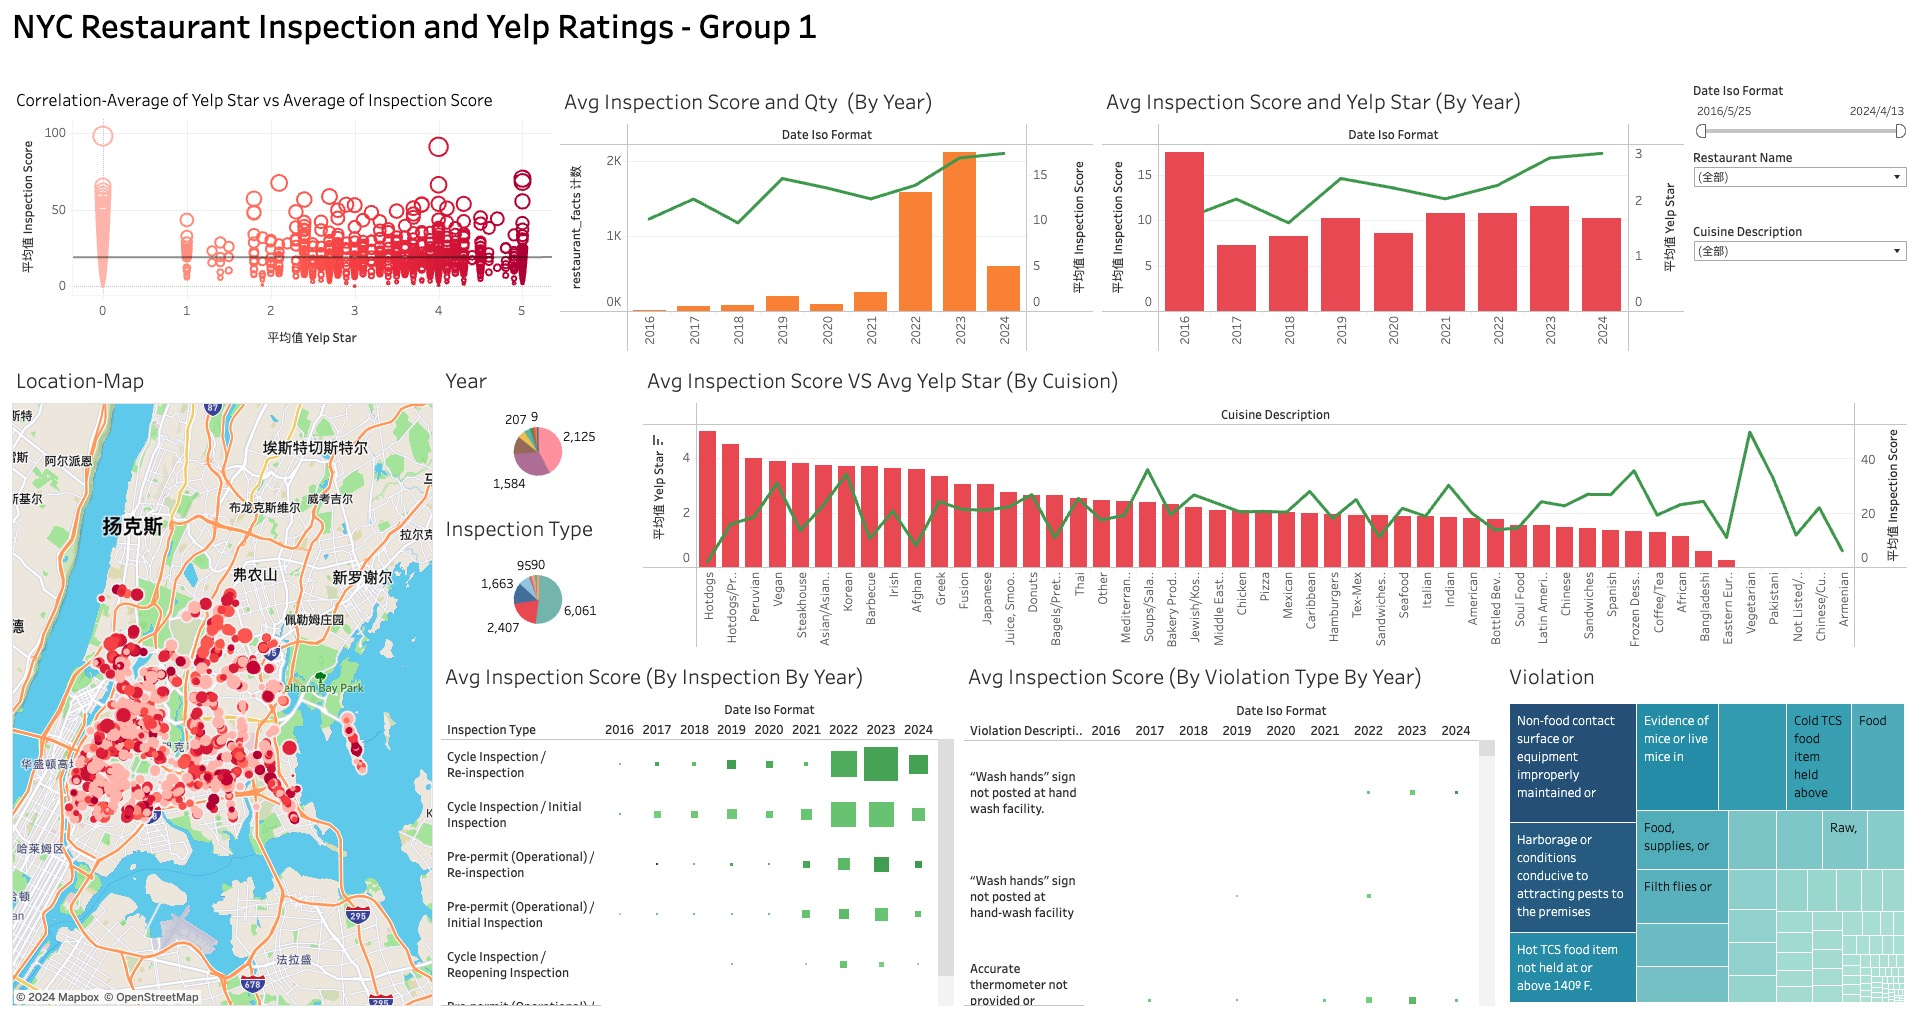

This screenshot's page, from the dashboard's own definition file:
{"tool":"tableau","page":{"name":"Dashboard","canvas":[1000,1000],"units":"permille","ordinal":0},"visuals":[{"type":"text","box":[4.7,8.6,990.6,98.6]},{"type":"worksheet","title":"Correlation","mark":"Automatic","rows":["inspection_score"],"cols":["yelp_star"],"box":[4.7,107.2,285,264.4]},{"type":"worksheet","title":"Sheet 11","mark":"Bar","rows":["inspection_score"],"cols":["date_iso_format"],"box":[289.6,107.2,282,264.4]},{"type":"worksheet","title":"Date-Line","mark":"Line","rows":["inspection_score","yelp_star"],"cols":["date_iso_format"],"box":[571.6,107.2,293.2,264.4]},{"type":"filter","title":"Cuisine-Combo","param":"[federated.1ykq8mh17dakyf1g6glmt19fv5py].[none:date_iso_format:qk]","box":[864.8,107.2,130.5,71.7]},{"type":"filter","title":"Cuisine-Combo","param":"[federated.1ykq8mh17dakyf1g6glmt19fv5py].[none:restaurant_name:nk]","box":[864.8,178.8,130.5,79.2]},{"type":"filter","title":"Correlation","param":"[federated.1ykq8mh17dakyf1g6glmt19fv5py].[none:cuisine_description:nk]","box":[864.8,258,130.5,55.6]},{"type":"worksheet","title":"Location-Map","mark":"Automatic","rows":["latitude"],"cols":["longitude"],"box":[4.7,371.6,223.3,619.9]},{"type":"worksheet","title":"Year","mark":"Pie","box":[228,371.6,105,140.4]},{"type":"worksheet","title":"Cuisine-Combo","mark":"Line","rows":["yelp_star","inspection_score"],"cols":["cuisine_description"],"box":[332.9,371.6,662.4,280.8]},{"type":"worksheet","title":"InspectionType-Pie","mark":"Pie","box":[228,512,105,140.4]},{"type":"worksheet","title":"HeatMap","mark":"Automatic","rows":["inspection_type"],"cols":["date_iso_format"],"box":[228,652.4,272,339.1]},{"type":"worksheet","title":"HeatMap (3)","mark":"Automatic","rows":["violation_description"],"cols":["date_iso_format"],"box":[500,652.4,281.5,339.1]},{"type":"worksheet","title":"Violation-Column","mark":"Automatic","box":[781.5,652.4,213.8,339.1]}]}

Visuals, with their boxes on the dashboard's canvas, which has no fixed pixel size, in thousandths of its width and height (x1, y1, x2, y2). These are canvas units, not pixel positions in the 1919x1016 screenshot, which may show the page scaled, cropped or inside an application window:
text: BBox(5, 9, 995, 107)
"Correlation" worksheet: BBox(5, 107, 290, 372)
"Sheet 11" worksheet (Bar marks): BBox(290, 107, 572, 372)
"Date-Line" worksheet (Line marks): BBox(572, 107, 865, 372)
"Cuisine-Combo" filter: BBox(865, 107, 995, 179)
"Cuisine-Combo" filter: BBox(865, 179, 995, 258)
"Correlation" filter: BBox(865, 258, 995, 314)
"Location-Map" worksheet: BBox(5, 372, 228, 992)
"Year" worksheet (Pie marks): BBox(228, 372, 333, 512)
"Cuisine-Combo" worksheet (Line marks): BBox(333, 372, 995, 652)
"InspectionType-Pie" worksheet (Pie marks): BBox(228, 512, 333, 652)
"HeatMap" worksheet: BBox(228, 652, 500, 992)
"HeatMap (3)" worksheet: BBox(500, 652, 782, 992)
"Violation-Column" worksheet: BBox(782, 652, 995, 992)
